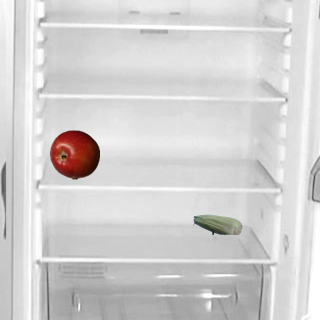Apple Braeburn: (49, 129, 99, 179)
Corn Husk: (192, 199, 242, 249)
